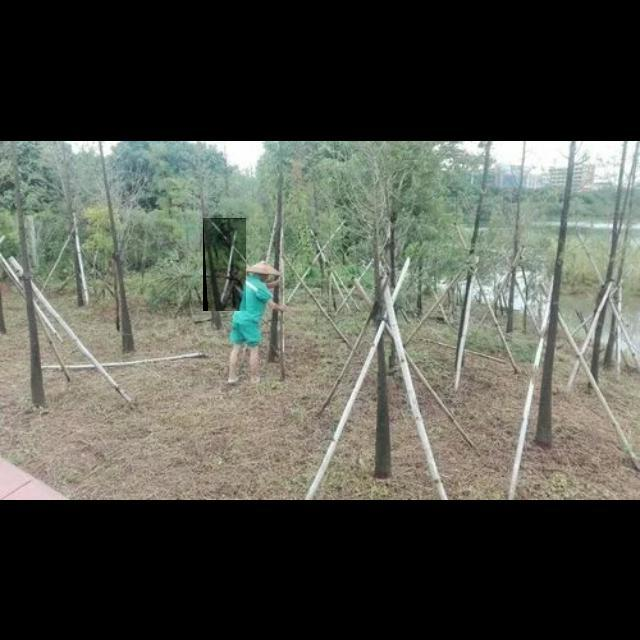fallen_tree: (203, 218, 247, 312)
